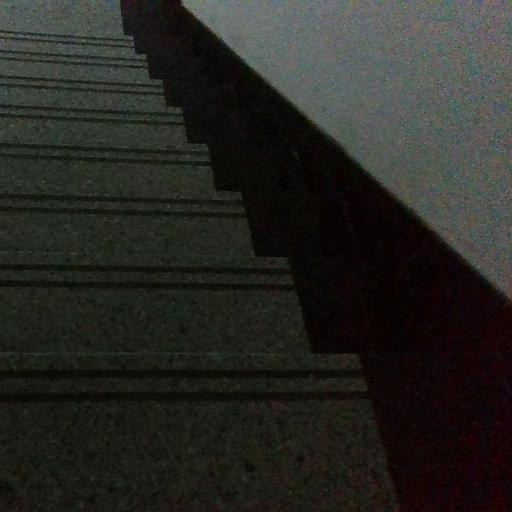stairs: (0, 0, 395, 511)
